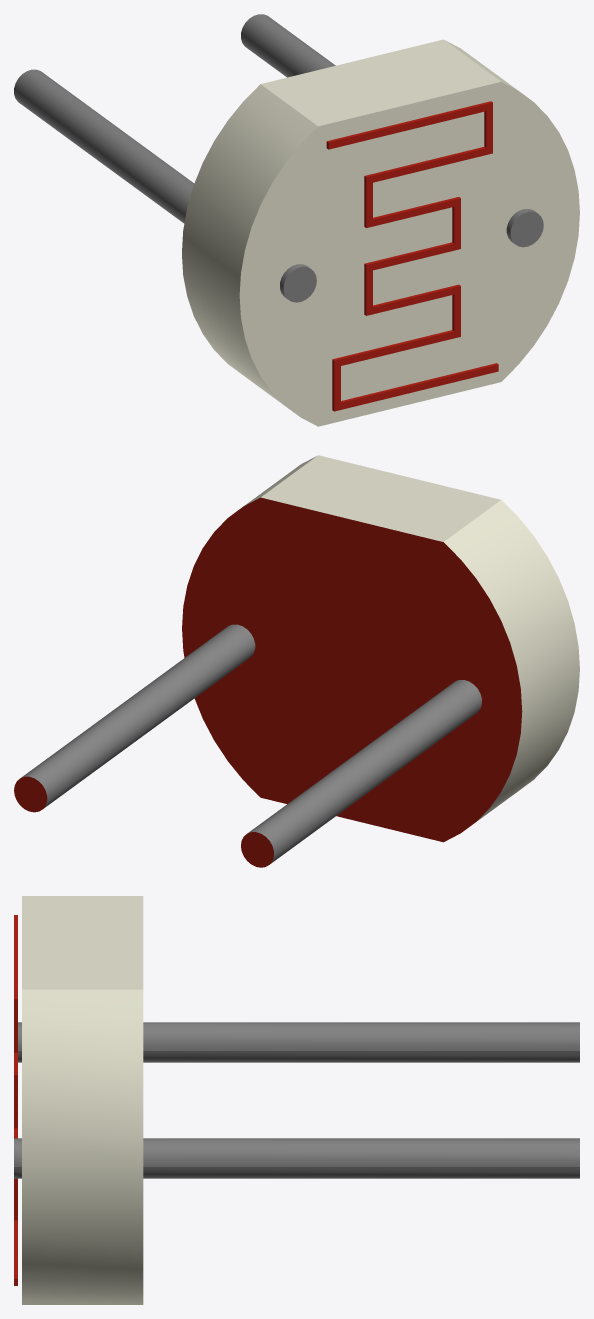
The model's file is photoresistor.glb.
3 renders of one model, top to bottom at view 1: azimuth 30°, elevation 25°; view 2: azimuth 150°, elevation 25°; view 3: azimuth 270°, elevation 25°, orthographic. The views are drawn at different scales.
Visible parts, largest first — view 1: plastic-0.78-0.77-0.63, plastic-0.22-0.22-0.22, plastic-0.45-0.01-0.00; view 2: plastic-0.45-0.01-0.00, plastic-0.78-0.77-0.63, plastic-0.22-0.22-0.22; view 3: plastic-0.78-0.77-0.63, plastic-0.22-0.22-0.22, plastic-0.45-0.01-0.00.
Boxes of the visible parts, x1,y1,x2,y2 form: plastic-0.78-0.77-0.63: [182, 39, 579, 426]; plastic-0.22-0.22-0.22: [14, 14, 543, 302]; plastic-0.45-0.01-0.00: [326, 101, 498, 411]; plastic-0.45-0.01-0.00: [14, 497, 522, 867]; plastic-0.78-0.77-0.63: [244, 455, 579, 824]; plastic-0.22-0.22-0.22: [21, 624, 481, 863]; plastic-0.78-0.77-0.63: [22, 896, 143, 1304]; plastic-0.22-0.22-0.22: [14, 1022, 579, 1178]; plastic-0.45-0.01-0.00: [14, 915, 17, 1285].
Bounding box in the file's own units: 5.1 × 4.3 × 7.
